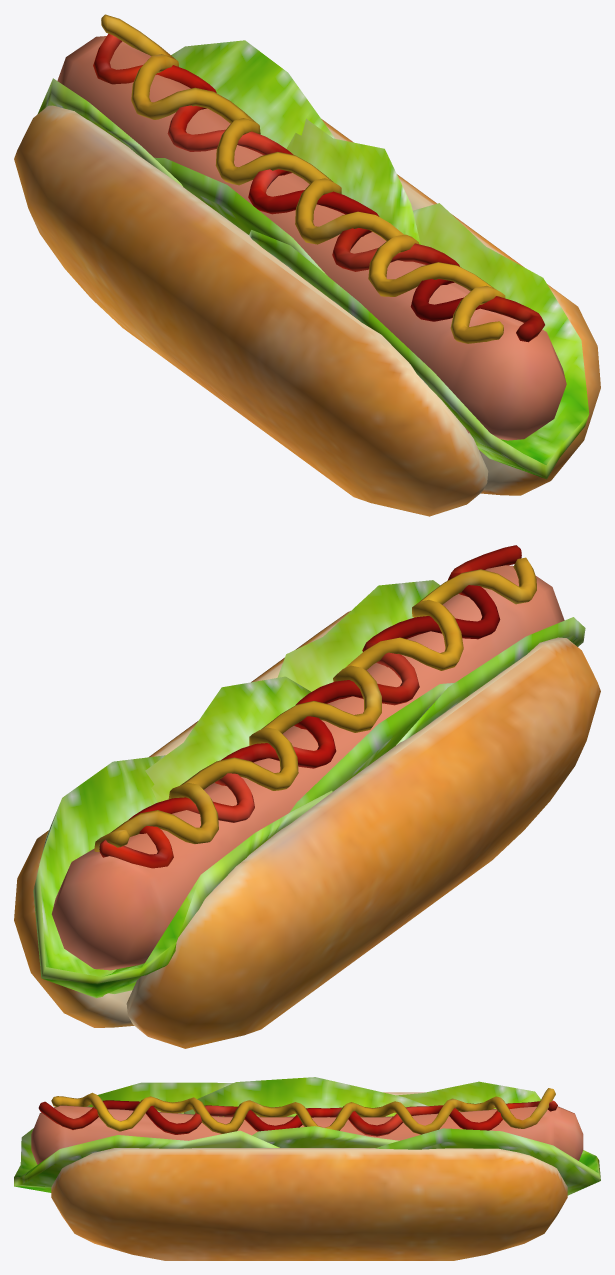
File: hotdog_2.fbx
3 views of the same model, one above another, from view 1: azimuth 30°, elevation 25°; view 2: azimuth 150°, elevation 25°; view 3: azimuth 270°, elevation 25° (orthographic). The views are drawn at different scales.
Parts seen in each view (by area): view 1: hotdog_2; view 2: hotdog_2; view 3: hotdog_2.
Part boxes in pixels (x1,y1,x2,y2): hotdog_2: (14, 14, 600, 516); hotdog_2: (14, 545, 600, 1048); hotdog_2: (14, 1077, 600, 1260).
Bounding box in the file's own units: 7.19 × 5.82 × 20.46.
